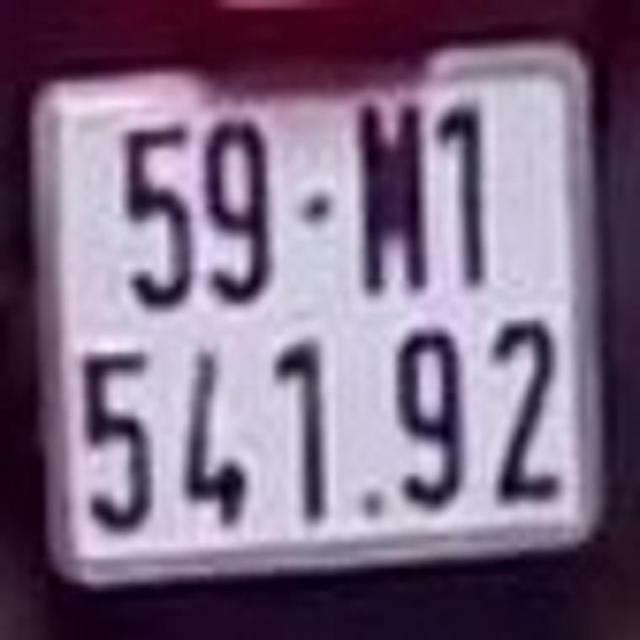1: (271, 331, 347, 524), (436, 95, 497, 288)
2: (487, 306, 568, 506)
4: (176, 337, 256, 534)
5: (73, 340, 160, 537), (114, 112, 198, 313)
9: (388, 316, 468, 513), (201, 109, 276, 309)
M: (356, 94, 430, 298)
